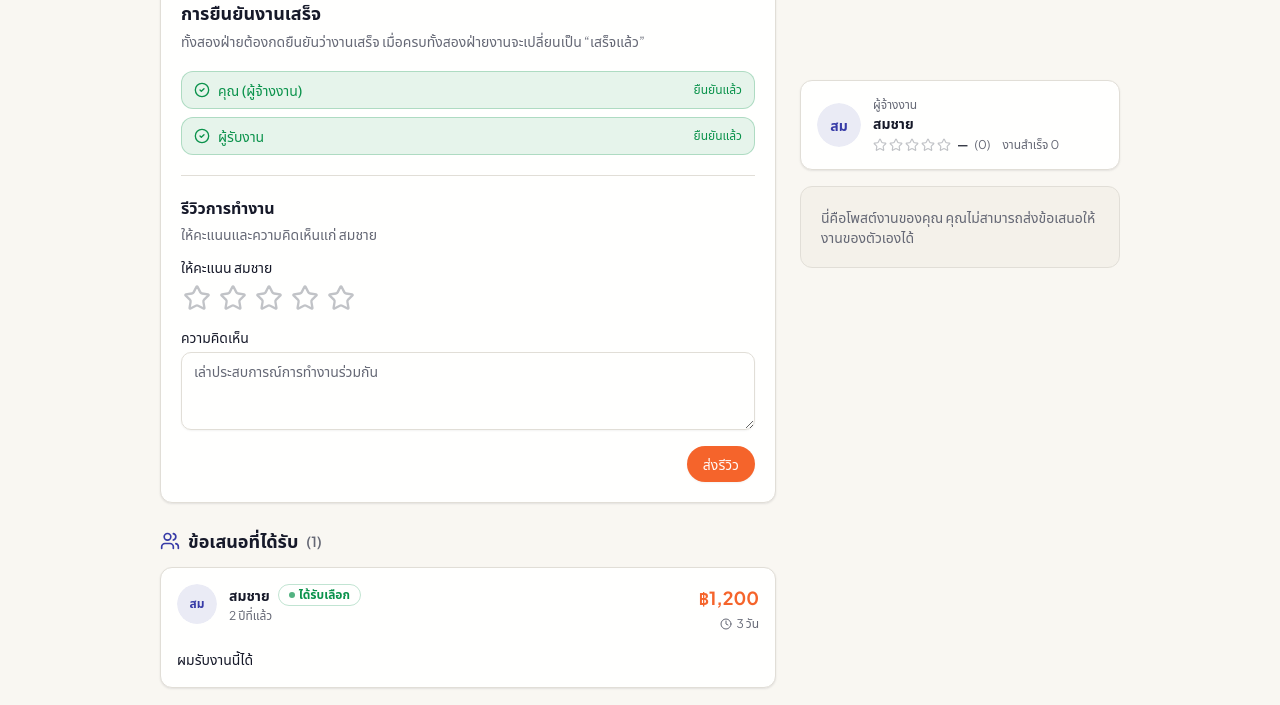
Job completion and review › blocks a review submission until a star rating is chosen
(page scrolled)
Click the button "ส่งรีวิว" at (721, 464), box [687,446,755,482]
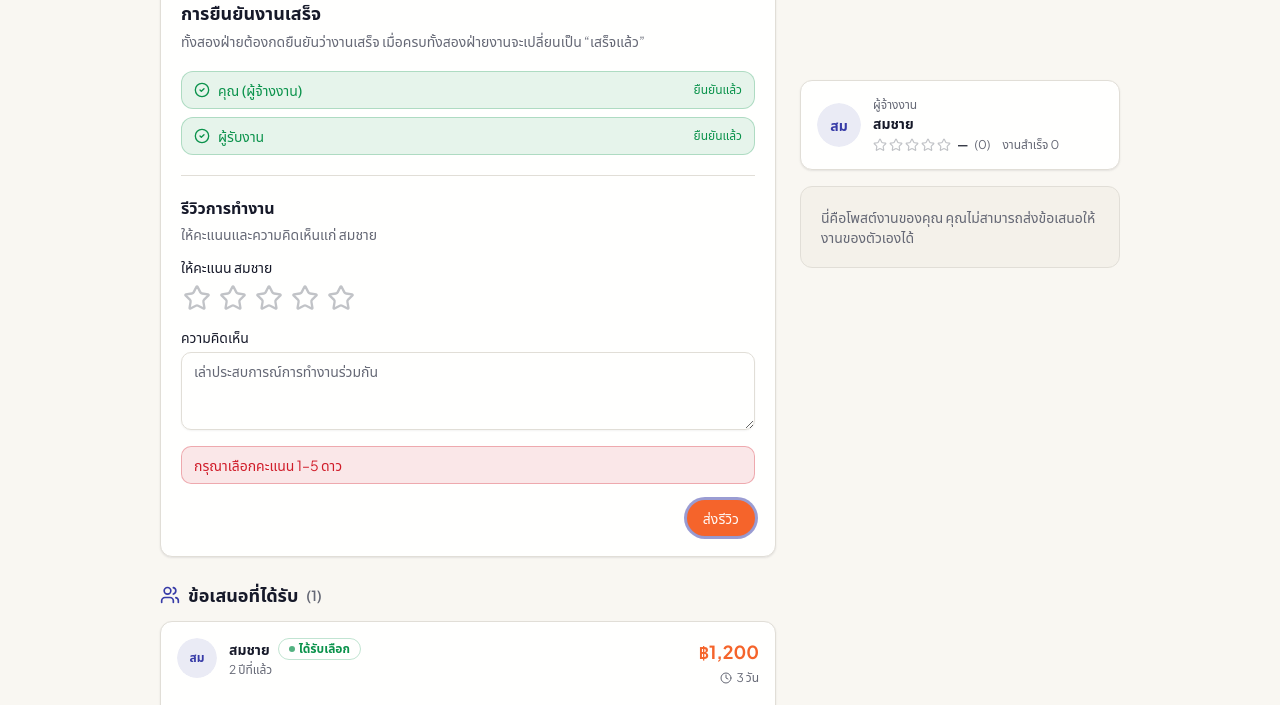
Result: the message reads "กรุณาเลือกคะแนน 1–5 ดาว" at [194,456,342,474]
